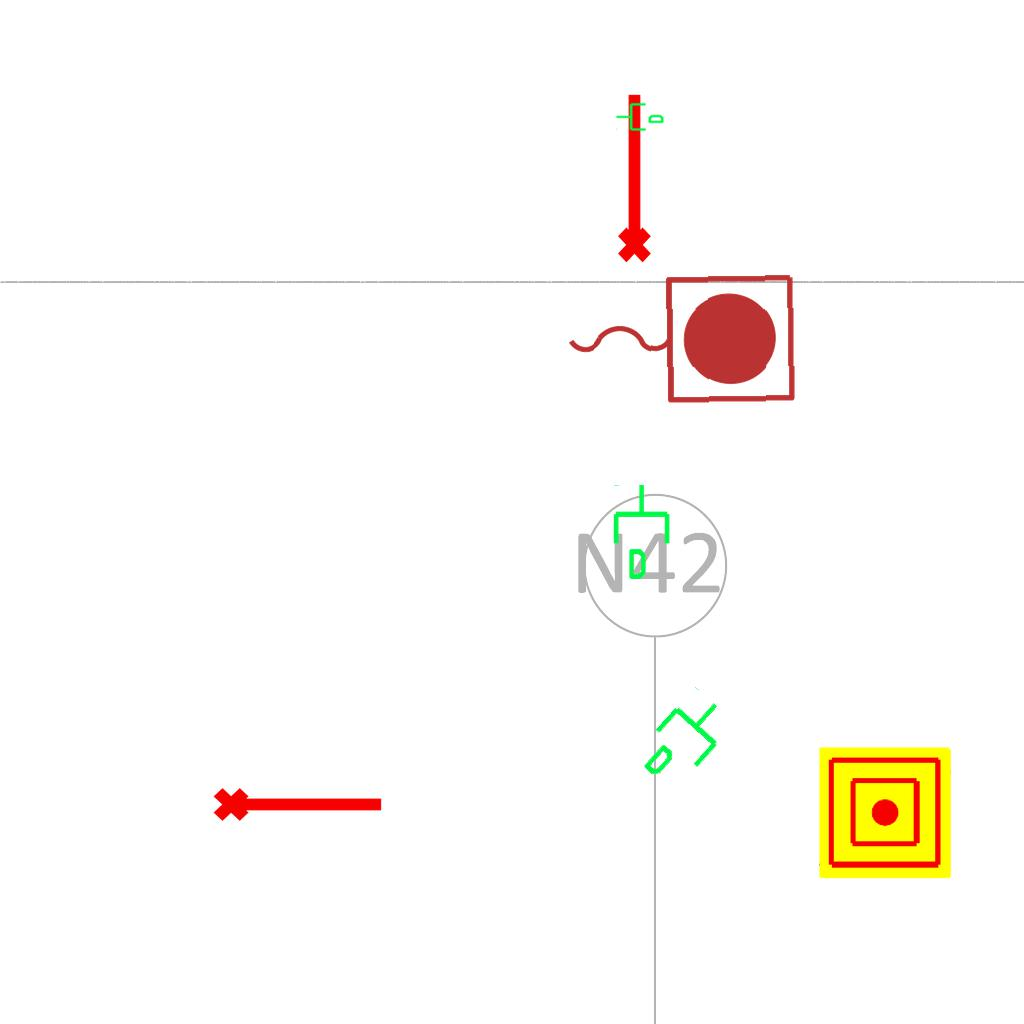ASR_Ansaugoeffnung: (609, 89, 655, 265), (211, 779, 387, 825)
Datenanschluss_einfach: (626, 680, 745, 802), (609, 482, 678, 582), (615, 99, 665, 133)
NAM-Nichtautomatischer_Melder: (819, 747, 951, 879)
Zugtaster: (556, 263, 804, 413)
